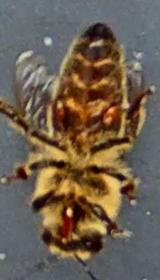varroa_mite: (92, 100, 126, 126), (44, 94, 69, 125)
